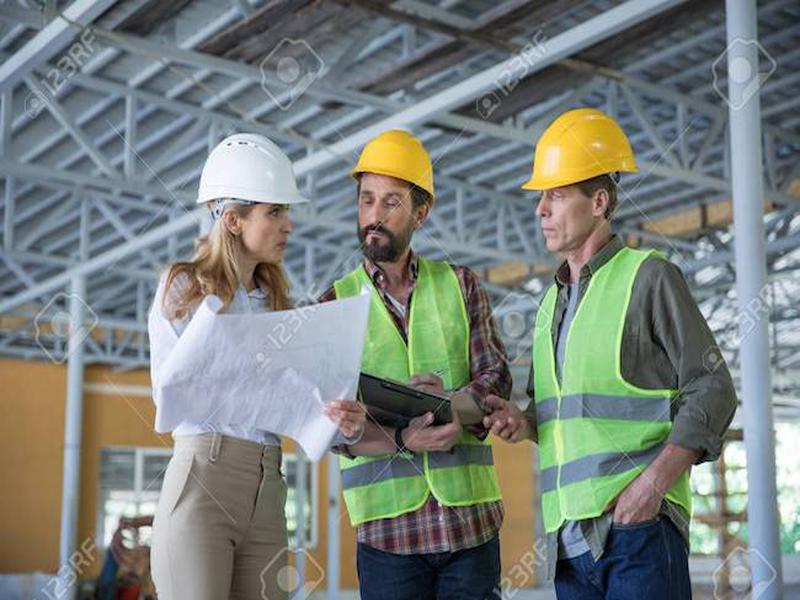hard-hat: (518, 106, 642, 192), (194, 132, 313, 213), (347, 128, 439, 210)
